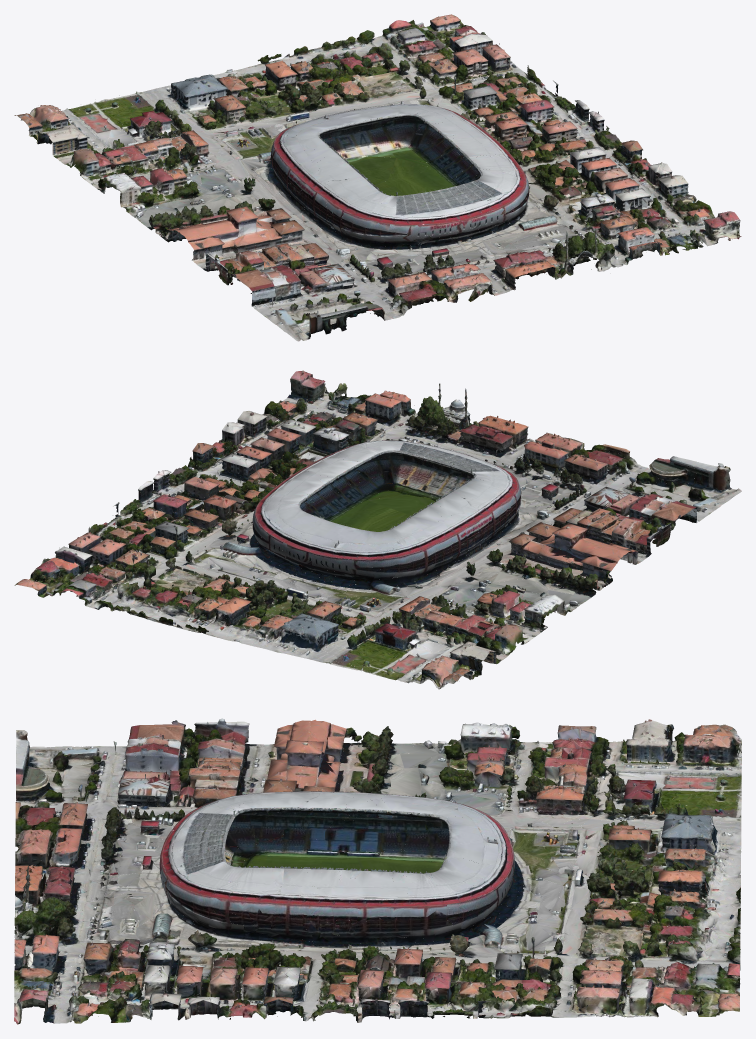
The picture shows the model from 3 angles, top to bottom: view 1: azimuth 30°, elevation 25°; view 2: azimuth 150°, elevation 25°; view 3: azimuth 270°, elevation 25°; orthographic projection. The views are drawn at different scales.
Parts seen in each view (by area): view 1: stadyum; view 2: stadyum; view 3: stadyum.
Boxes of the visible parts, x1,y1,x2,y2 form: stadyum: (14,14,741,341); stadyum: (14,370,741,689); stadyum: (14,718,741,1024).
Size of the model in its own units: 352 by 52.18 by 397.
Materials: 4 (4 with a texture image).
